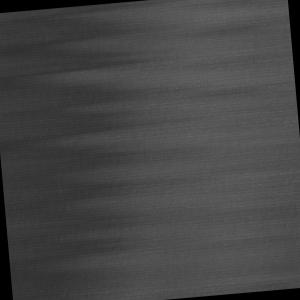Wrinkle: (1, 1, 300, 286)
